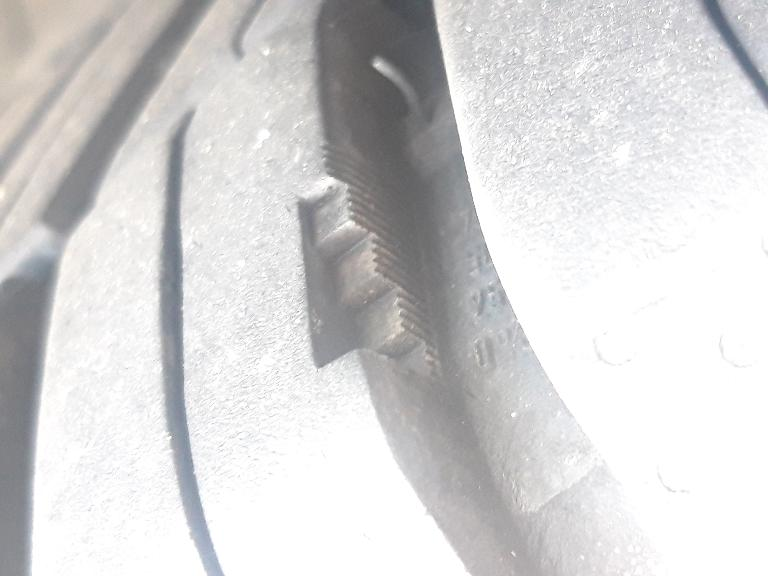temoin:90: (279, 131, 456, 405)
